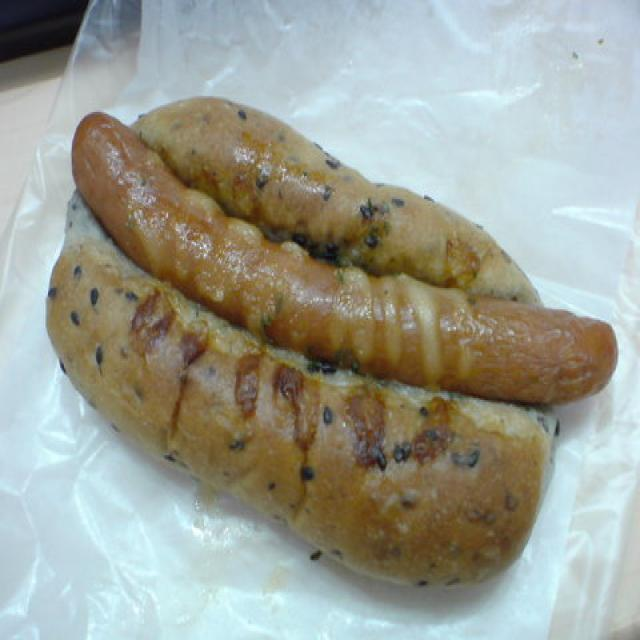三明治: (52, 75, 601, 583)
